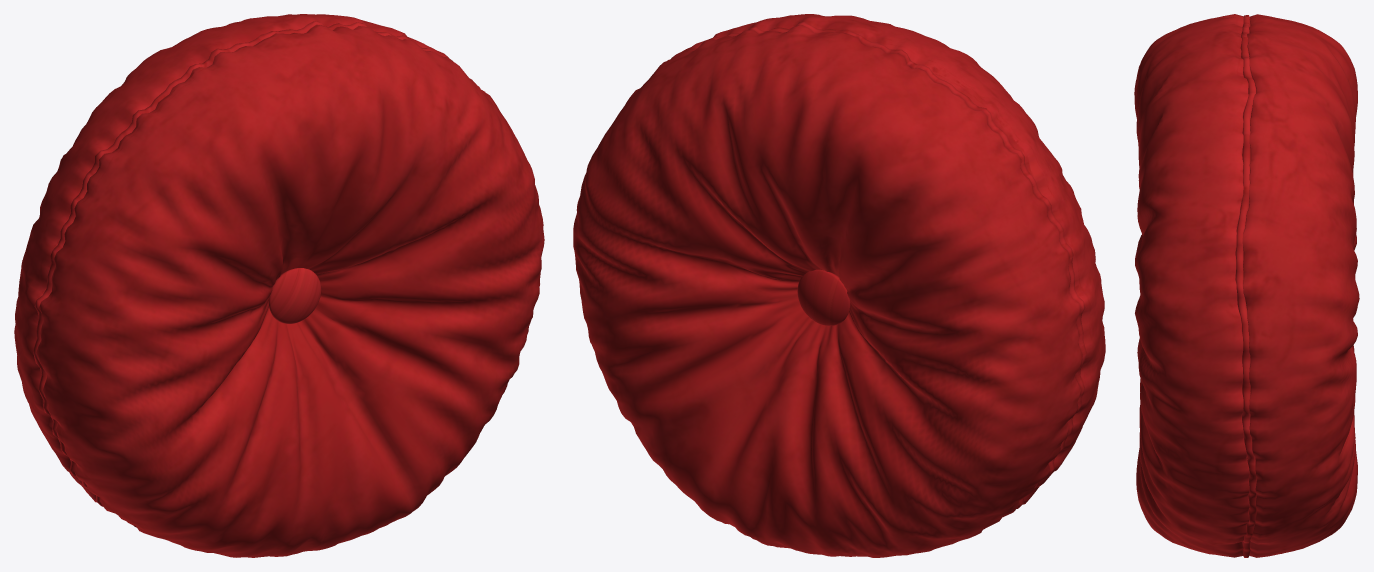
Rendered from puff.glb.
The picture shows the model from 3 angles, left to right: view 1: azimuth 30°, elevation 25°; view 2: azimuth 150°, elevation 25°; view 3: azimuth 270°, elevation 25°; orthographic projection. The views are drawn at different scales.
Visible parts, largest first — view 1: cushion_lp; view 2: cushion_lp; view 3: cushion_lp.
Boxes of the visible parts, x1=… form: cushion_lp: x1=14, y1=14, x2=544, y2=557; cushion_lp: x1=573, y1=14, x2=1105, y2=557; cushion_lp: x1=1134, y1=14, x2=1359, y2=557.
Bounding box in the file's own units: 0.381 × 0.381 × 0.1572.
Materials: 1 (1 with a texture image).
